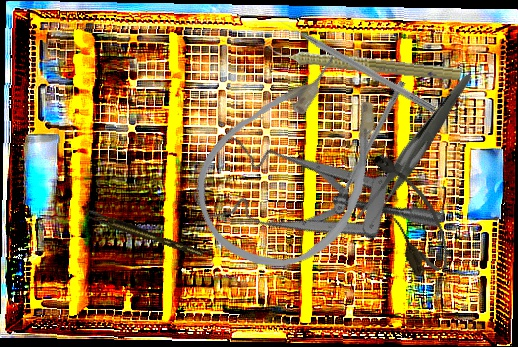Cannula: (169, 31, 424, 298), (365, 143, 458, 281)
Dressing Forceps: (326, 73, 508, 231)
Handpiece: (261, 39, 463, 85)
Pusher: (275, 14, 438, 114), (330, 79, 406, 213)
Speculum: (180, 87, 445, 325)
Tissue Forceps: (86, 206, 204, 263)
